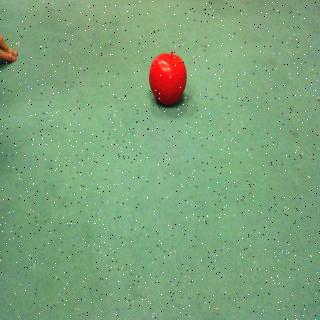apple: (143, 48, 191, 113)
